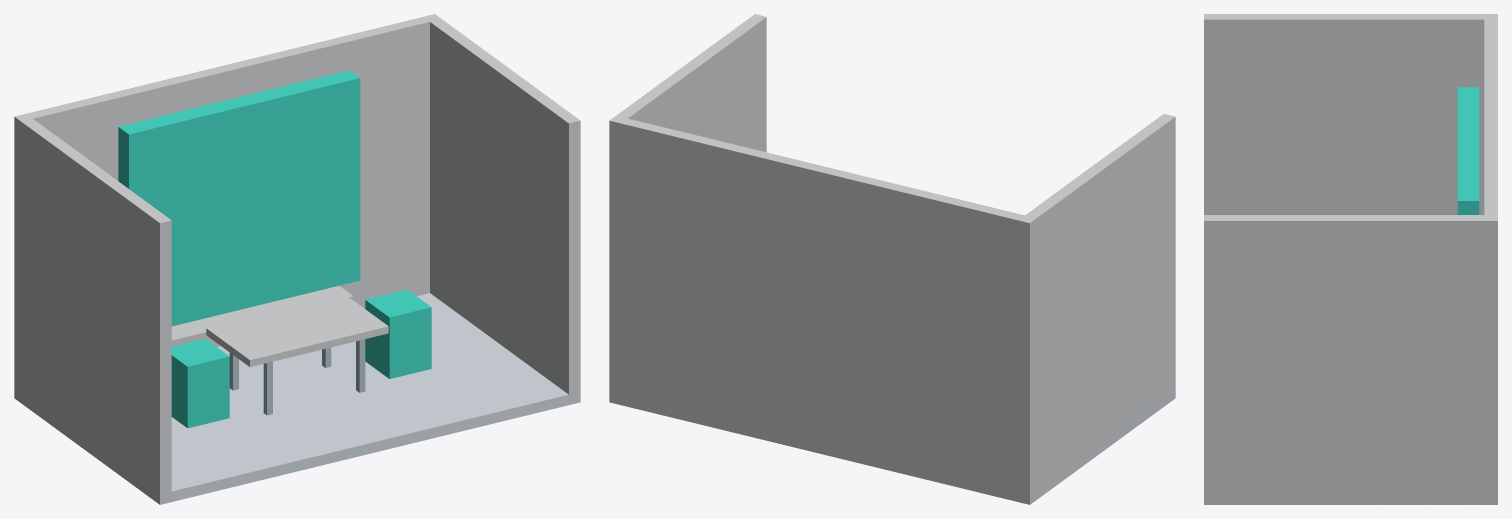
The picture shows the model from 3 angles, left to right: view 1: azimuth 30°, elevation 25°; view 2: azimuth 150°, elevation 25°; view 3: azimuth 270°, elevation 25°; orthographic projection.
Parts seen in each view (by area): view 1: Exhibition Booth Concept; view 2: Exhibition Booth Concept; view 3: Exhibition Booth Concept.
Part boxes in pixels (x1,y1,x2,y2): Exhibition Booth Concept: (14,14,580,504); Exhibition Booth Concept: (609,14,1175,504); Exhibition Booth Concept: (1204,14,1497,504).
Size of the model in its own units: 5 by 3.2 by 3.
